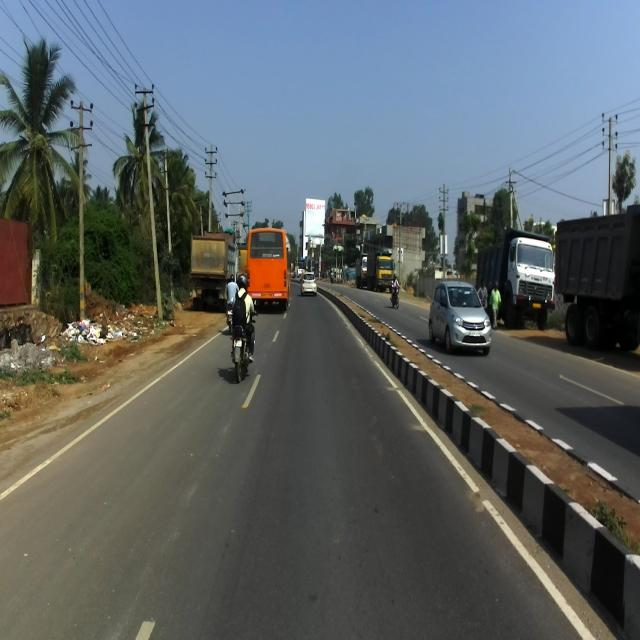car: (428, 280, 491, 355)
motorcycle: (230, 298, 260, 382)
truck: (555, 204, 640, 351), (476, 227, 555, 330)
